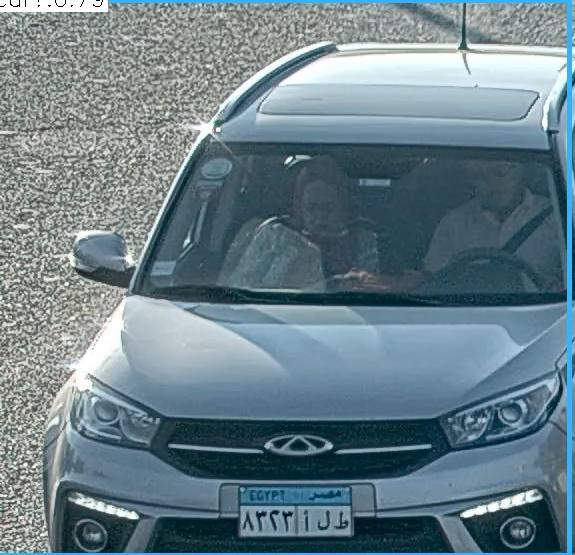windshield: (126, 130, 575, 304)
